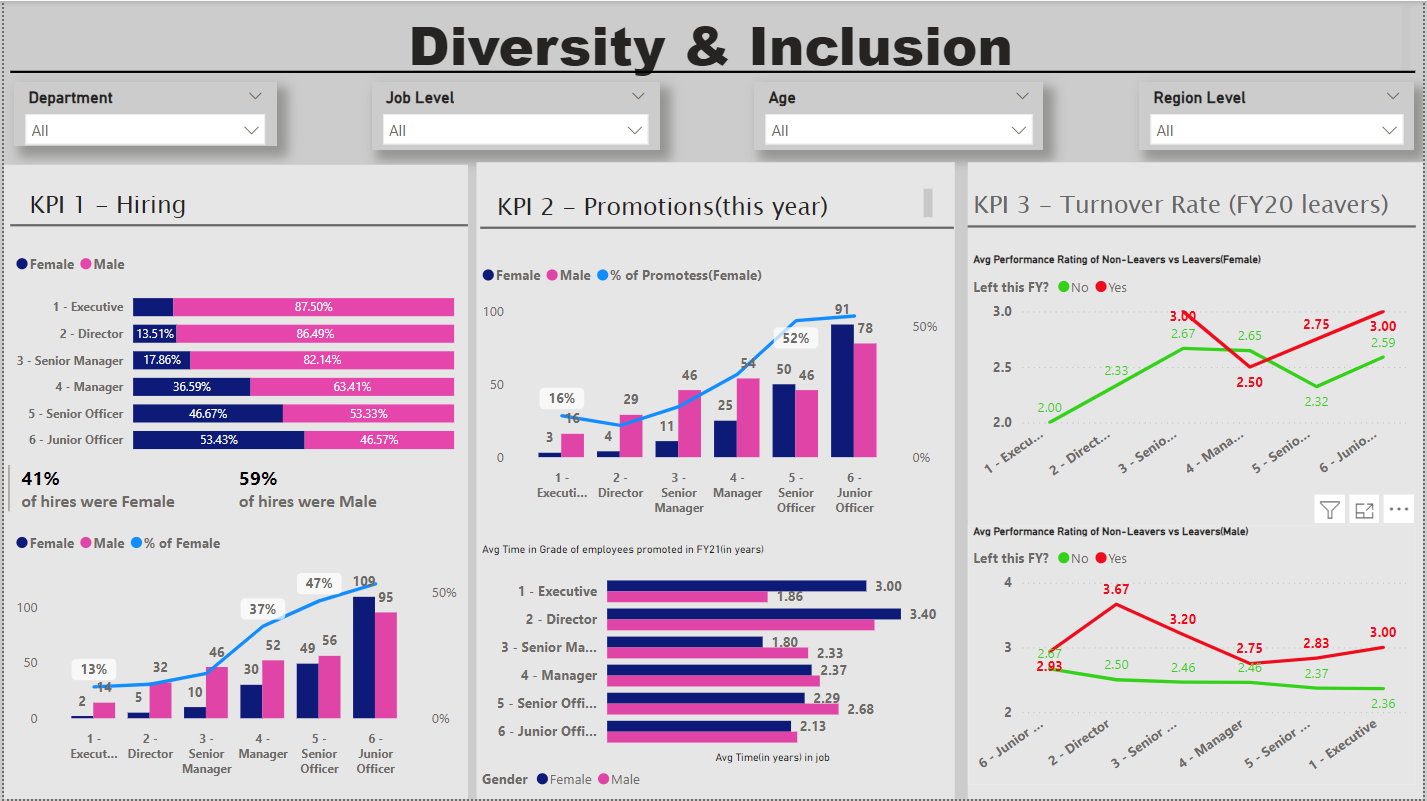

What the dashboard file says about the page in this screenshot:
{"tool":"powerbi","page":{"name":"HR Manager(1/2)","canvas":[1280,720],"ordinal":0},"visuals":[{"type":"textbox","box":[8.6,0,1264.4,73.4],"z":0},{"type":"hundredPercentStackedBarChart","fields":{"Y":["CountNonNull(Pharma Group AG.Employee ID)"],"Category":["Pharma Group AG.Job Level after FY20 promotions"],"Series":["Pharma Group AG.Gender"]},"box":[6.2,217.9,405.4,202],"z":1000,"group":"g1"},{"type":"lineClusteredColumnComboChart","fields":{"Y":["CountNonNull(Pharma Group AG.Employee ID)"],"Series":["Pharma Group AG.Gender"],"Y2":["Pharma Group AG.% of Female"],"Category":["Pharma Group AG.Job Level after FY21 promotions"]},"box":[989.4,757.2,351,188.3],"z":1000},{"type":"slicer","fields":{"Values":["Pharma Group AG.Last Department in FY20"]},"box":[8.7,73.6,236.6,57.7],"z":2000},{"type":"multiRowCard","fields":{"Values":["Pharma Group AG.% of Female","Pharma Group AG.% of Male"]},"box":[-1,414.1,414.1,53.4],"z":2000,"group":"g1"},{"type":"slicer","fields":{"Values":["Pharma Group AG.Job Level after FY20 promotions"]},"box":[330.9,73.6,259.7,60.6],"z":3000},{"type":"lineClusteredColumnComboChart","fields":{"Category":["Pharma Group AG.Job Level after FY20 promotions"],"Y":["CountNonNull(Pharma Group AG.Employee ID)"],"Series":["Pharma Group AG.Gender"],"Y2":["Pharma Group AG.% of Female"]},"box":[6.2,468.9,408.3,238.1],"z":3000,"group":"g1"},{"type":"slicer","fields":{"Values":["Pharma Group AG.Age @01.07.2020"]},"box":[676.2,73.6,261.1,60.6],"z":4000},{"type":"slicer","fields":{"Values":["Pharma Group AG.Broad region group: nationality 1"]},"box":[1022.9,73.6,248.2,60.6],"z":5000},{"type":"shape","box":[0,147.2,418.4,572.8],"z":6000},{"type":"textbox","box":[18.5,163.6,399.6,44.1],"z":7000},{"type":"shape","box":[5.8,177.5,412.6,50.5],"z":8000},{"type":"group","id":"g1","title":"Group 1","box":[-1,217.9,415.5,489.1],"z":9000},{"type":"shape","box":[425.6,145.7,431.4,574.2],"z":10000},{"type":"clusteredBarChart","title":"Avg Time in Grade of  employees promoted in FY21(in years)","fields":{"Category":["Pharma Group AG.Job Level after FY20 promotions"],"Y":["Avg(Pharma Group AG.Time in Job Level @01.07.2020)"],"Series":["Pharma Group AG.Gender"]},"box":[425.6,489.1,421.3,230.8],"z":11000},{"type":"textbox","box":[440,164.5,402.5,39],"z":12000},{"type":"shape","box":[429.9,178.9,427.1,50.5],"z":13000},{"type":"lineClusteredColumnComboChart","fields":{"Y":["CountNonNull(Pharma Group AG.Employee ID)"],"Series":["Pharma Group AG.Gender"],"Y2":["Pharma Group AG.% of Female"],"Category":["Pharma Group AG.Job Level after FY21 promotions"]},"box":[425.6,228,421.3,243.8],"z":14000},{"type":"shape","box":[868.5,145.7,411.2,574.2],"z":15000},{"type":"lineChart","title":"Avg Performance Rating of Non-Leavers vs Leavers(Male)","fields":{"Category":["Pharma Group AG.Job Level after FY20 promotions"],"Y":["Avg(Pharma Group AG.FY19 Performance Rating)"],"Series":["Pharma Group AG.FY20 leaver?"]},"box":[868.5,471.8,404,235.2],"z":16000},{"type":"lineChart","title":"Avg Performance Rating of Non-Leavers vs Leavers(Female)","fields":{"Category":["Pharma Group AG.Job Level after FY20 promotions"],"Y":["Avg(Pharma Group AG.FY19 Performance Rating)"],"Series":["Pharma Group AG.FY20 leaver?"]},"box":[868.5,228,404,213.5],"z":17000},{"type":"textbox","box":[868.5,163,404,54.8],"z":18000},{"type":"shape","box":[868.5,186.1,404,34.6],"z":19000},{"type":"shape","box":[6.1,53.8,1266.9,19.6],"z":20000}]}

Visuals, with their boxes in screenshot pixels (x1, y1, x2, y2), scaled from the page's 1280x720 canvas onto the 1427x801 screenshot:
textbox: (left=10, top=0, right=1419, bottom=82)
hundredPercentStackedBarChart - CountNonNull(Pharma Group AG.Employee ID) x Pharma Group AG.Job Level after FY20 promotions: (left=7, top=242, right=459, bottom=467)
slicer - Pharma Group AG.Last Department in FY20: (left=10, top=82, right=273, bottom=146)
multiRowCard - Pharma Group AG.% of Female x Pharma Group AG.% of Male: (left=0, top=461, right=461, bottom=520)
slicer - Pharma Group AG.Job Level after FY20 promotions: (left=369, top=82, right=658, bottom=149)
lineClusteredColumnComboChart - Pharma Group AG.Job Level after FY20 promotions x CountNonNull(Pharma Group AG.Employee ID): (left=7, top=522, right=462, bottom=787)
slicer - Pharma Group AG.Age @01.07.2020: (left=754, top=82, right=1045, bottom=149)
slicer - Pharma Group AG.Broad region group: nationality 1: (left=1140, top=82, right=1417, bottom=149)
shape: (left=0, top=164, right=466, bottom=800)
textbox: (left=21, top=182, right=466, bottom=231)
shape: (left=6, top=197, right=466, bottom=254)
"Group 1" group: (left=0, top=242, right=462, bottom=787)
shape: (left=474, top=162, right=955, bottom=800)
"Avg Time in Grade of  employees promoted in FY21(in years)" clusteredBarChart: (left=474, top=544, right=944, bottom=800)
textbox: (left=491, top=183, right=939, bottom=226)
shape: (left=479, top=199, right=955, bottom=255)
lineClusteredColumnComboChart - CountNonNull(Pharma Group AG.Employee ID) x Pharma Group AG.Gender: (left=474, top=254, right=944, bottom=525)
shape: (left=968, top=162, right=1426, bottom=800)
"Avg Performance Rating of Non-Leavers vs Leavers(Male)" lineChart: (left=968, top=525, right=1419, bottom=787)
"Avg Performance Rating of Non-Leavers vs Leavers(Female)" lineChart: (left=968, top=254, right=1419, bottom=491)
textbox: (left=968, top=181, right=1419, bottom=242)
shape: (left=968, top=207, right=1419, bottom=246)
shape: (left=7, top=60, right=1419, bottom=82)
